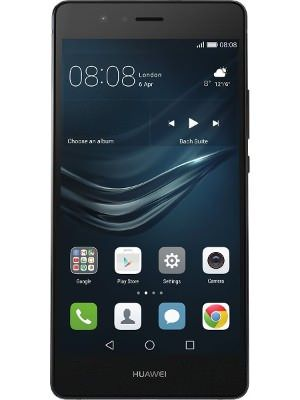phone: (50, 1, 254, 400)
